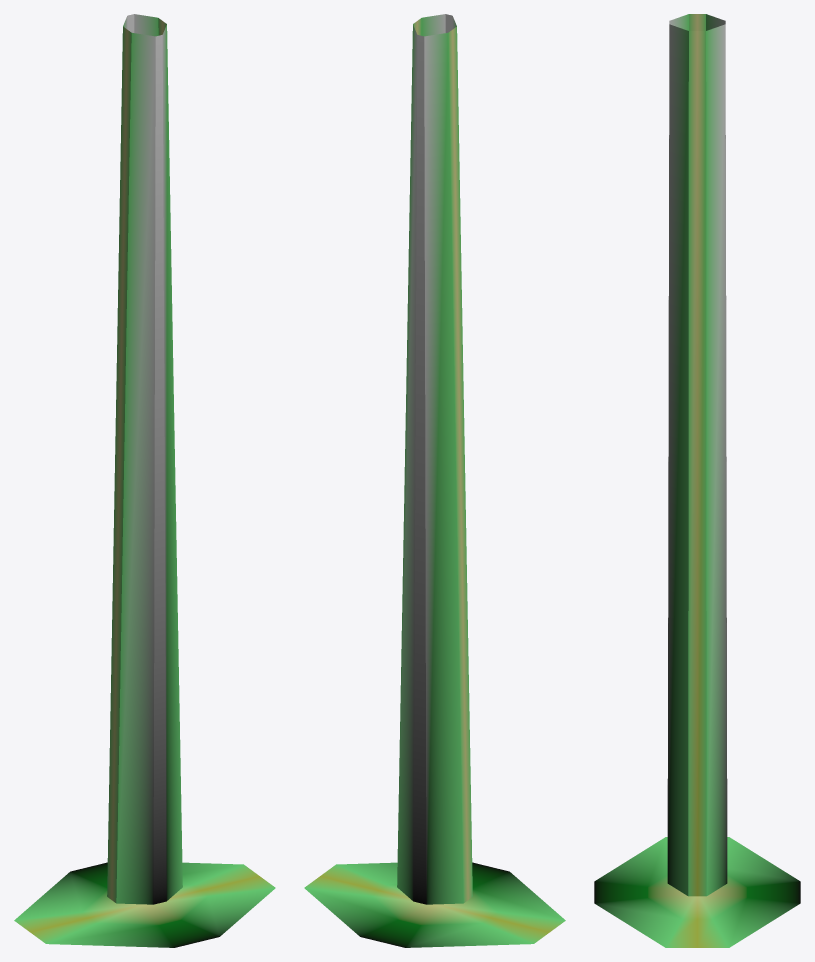
The model's file is LightRay_08.FBX.
3 views of the same model, side by side, from view 1: azimuth 30°, elevation 25°; view 2: azimuth 150°, elevation 25°; view 3: azimuth 270°, elevation 25° (orthographic).
Parts seen in each view (by area): view 1: LightRay_08; view 2: LightRay_08; view 3: LightRay_08.
Part boxes in pixels (x1,y1,x2,y2): LightRay_08: (14, 14, 275, 947); LightRay_08: (304, 14, 565, 947); LightRay_08: (594, 14, 800, 947).
Size of the model in its own units: 736 by 2687 by 578.
